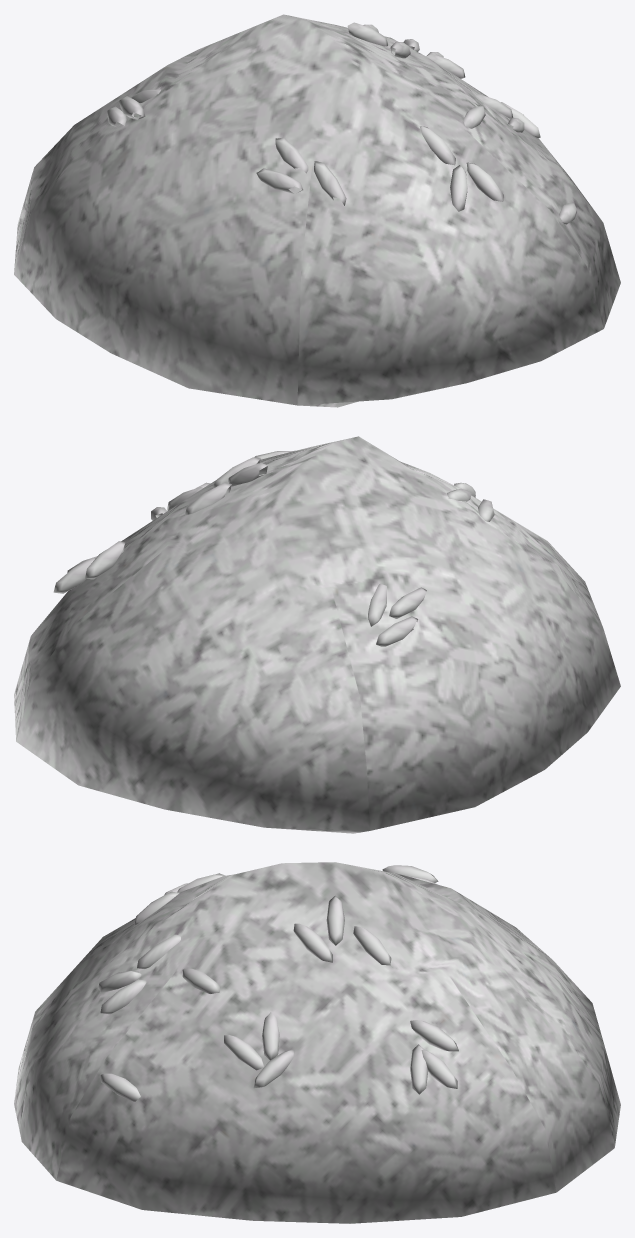
File: Rice.fbx
3 views of the same model, one above another, from view 1: azimuth 30°, elevation 25°; view 2: azimuth 150°, elevation 25°; view 3: azimuth 270°, elevation 25° (orthographic).
Parts seen in each view (by area): view 1: Rice; view 2: Rice; view 3: Rice.
Part boxes in pixels (box(x1,y1,x2,y2)): Rice: box(14, 14, 620, 407); Rice: box(14, 436, 620, 833); Rice: box(14, 862, 620, 1223).
Bounding box in the file's own units: 0.6056 × 0.3188 × 0.6527.
Materials: 1 (1 with a texture image).
